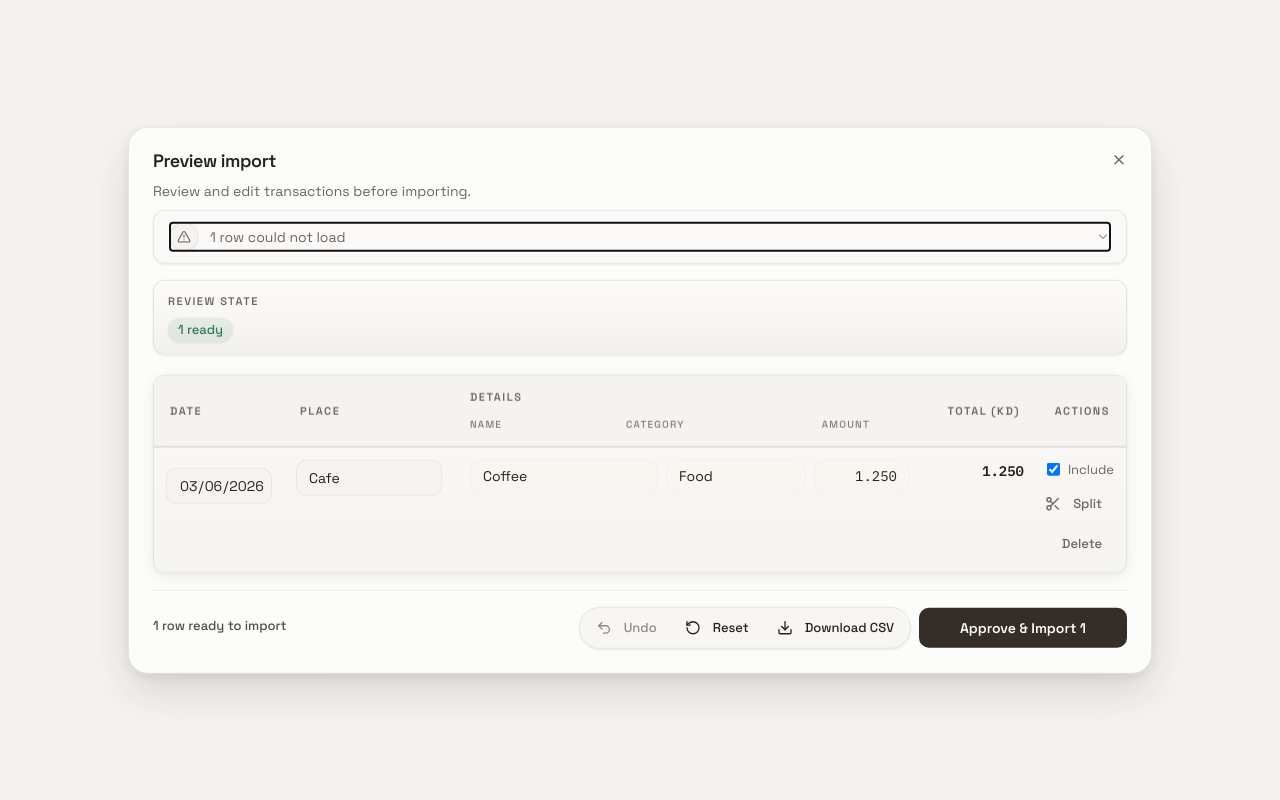
Test: PreviewImportDialog › shows skipped preview row diagnostics when the backend returns them
What coordinates should you click on to do the following:
click the button "1 row could not load"
I would click on:
 (278, 237)
Its box is left=170, top=223, right=1110, bottom=251.
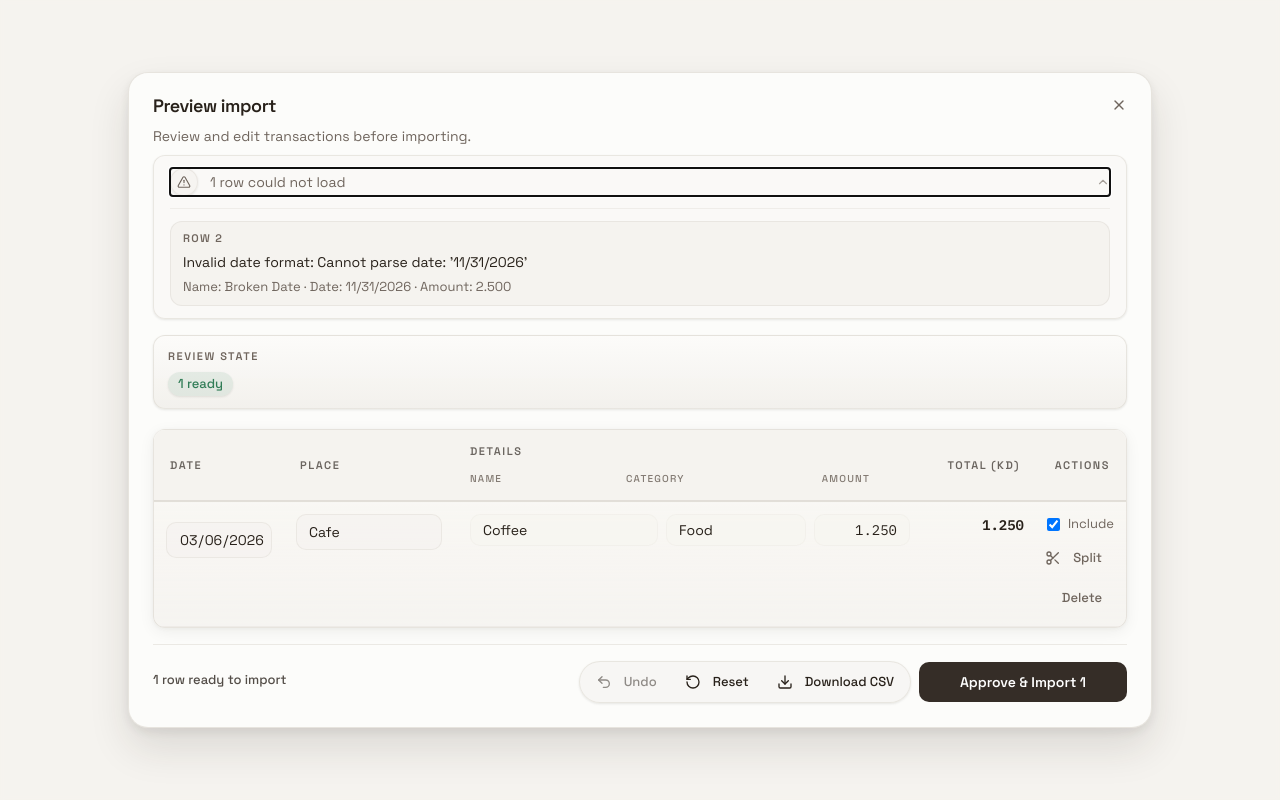
Expected: the text "Row 2" is shown, left=183, top=231, right=223, bottom=245
Expected: the text "Invalid date format: Cannot parse date: '11/31/2026'" is shown, left=183, top=252, right=527, bottom=270
